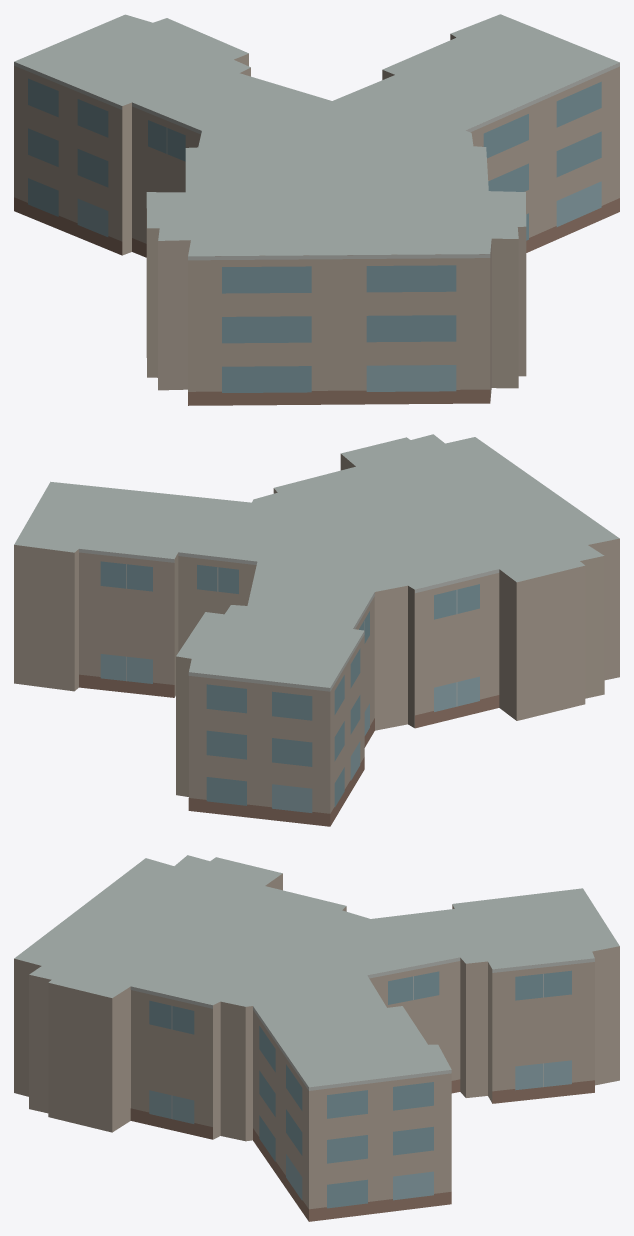
File: survey-upis-32539635.glb
3 renders of one model, top to bottom at view 1: azimuth 30°, elevation 25°; view 2: azimuth 150°, elevation 25°; view 3: azimuth 270°, elevation 25°, orthographic. The views are drawn at different scales.
Parts seen in each view (by area): view 1: survey-upis-32539635.tmp; view 2: survey-upis-32539635.tmp; view 3: survey-upis-32539635.tmp.
Boxes of the visible parts, x1,y1,x2,y2 form: survey-upis-32539635.tmp: [14, 14, 619, 405]; survey-upis-32539635.tmp: [14, 434, 619, 826]; survey-upis-32539635.tmp: [14, 855, 619, 1221].
Size of the model in its own units: 33.92 by 9.15 by 37.39.
